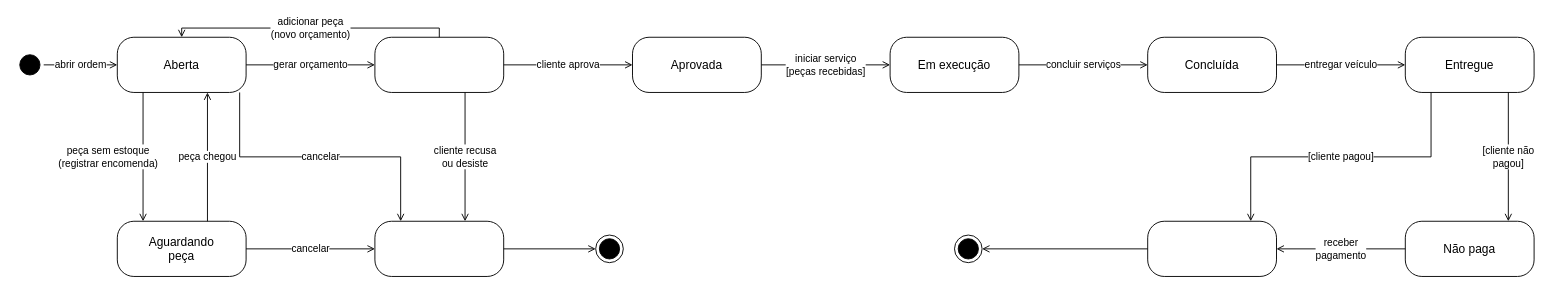
The diagram is 1550 pixels wide and 293 high, and some of its shapes have lost their labels. The shapes that lost their labels are listed below. From the top down, each one's centre as x and y in pixels, then its label:
At point (439, 64): "Aguardando aprovação".
At point (439, 248): "Cancelada".
At point (1211, 248): "Paga".
